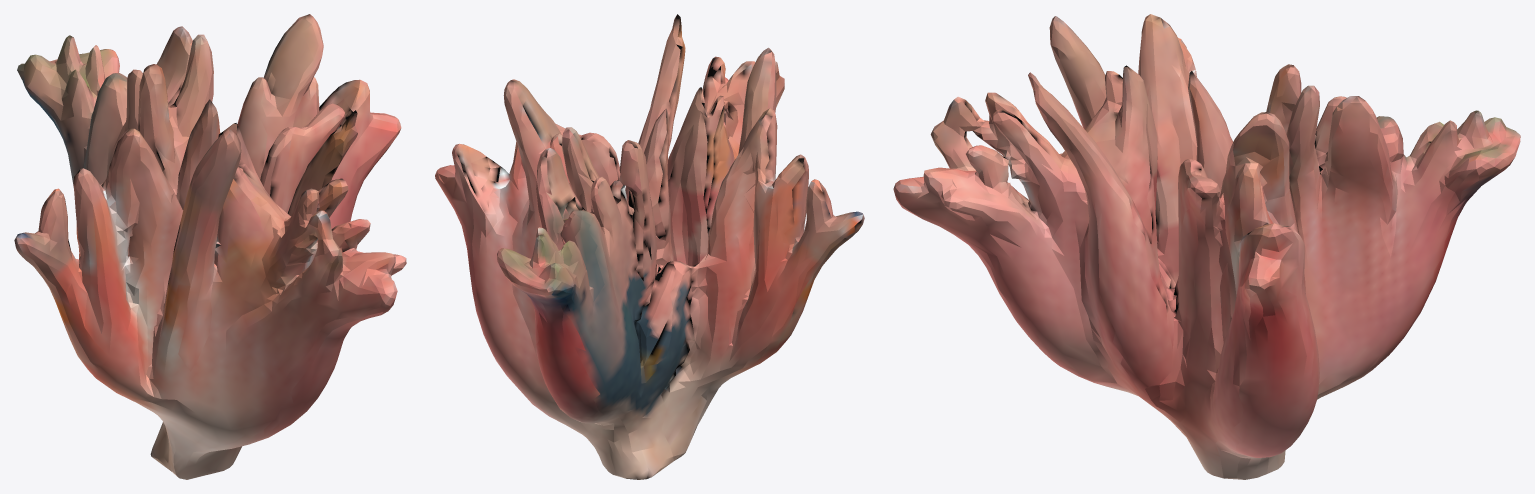
The model's file is Plant10.glb.
The picture shows the model from 3 angles, left to right: view 1: azimuth 30°, elevation 25°; view 2: azimuth 150°, elevation 25°; view 3: azimuth 270°, elevation 25°; orthographic projection. The views are drawn at different scales.
Parts seen in each view (by area): view 1: model.006_LOD0; view 2: model.006_LOD0; view 3: model.006_LOD0.
Part boxes in pixels (box(x1,y1,x2,y2)): model.006_LOD0: box(14, 14, 406, 479); model.006_LOD0: box(435, 14, 864, 479); model.006_LOD0: box(893, 14, 1520, 479).
Size of what is drawn, in the model's own units: 0.4031 by 0.3684 by 0.4986.
Materials: 1 (1 with a texture image).
